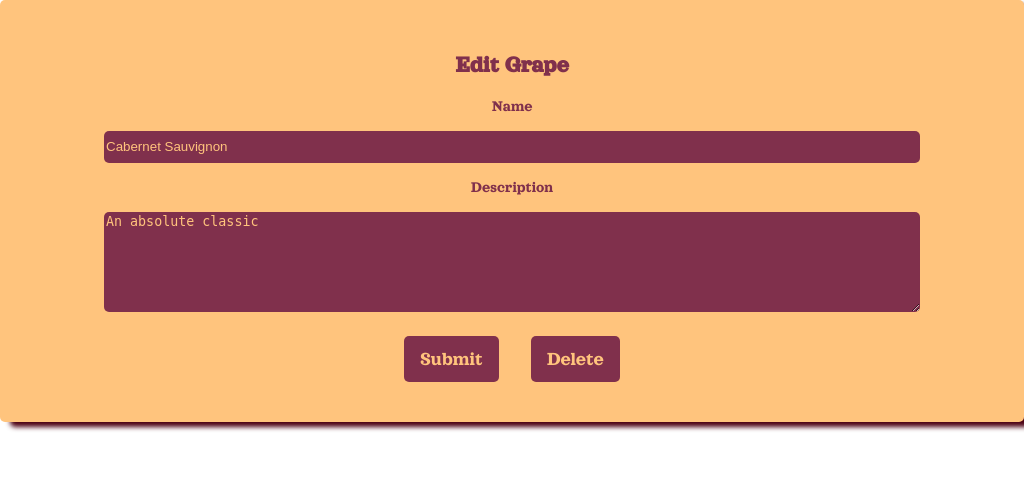
<EditGrape /> › submits data on button click
Clear the field showing "Cabernet Sauvignon": [512, 147] box x1=104 y1=131 x2=920 y2=163
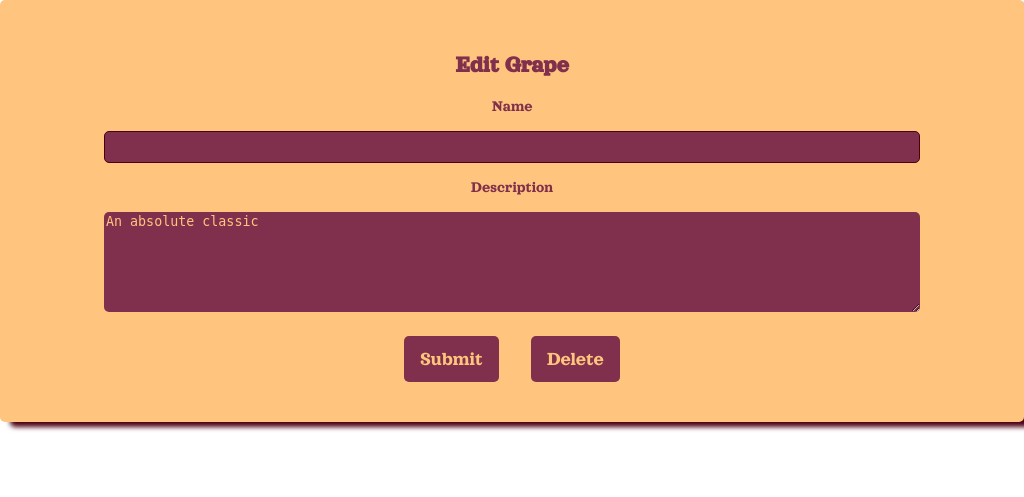
Clear the text box labelled "Description": [512, 262] box x1=104 y1=212 x2=920 y2=312
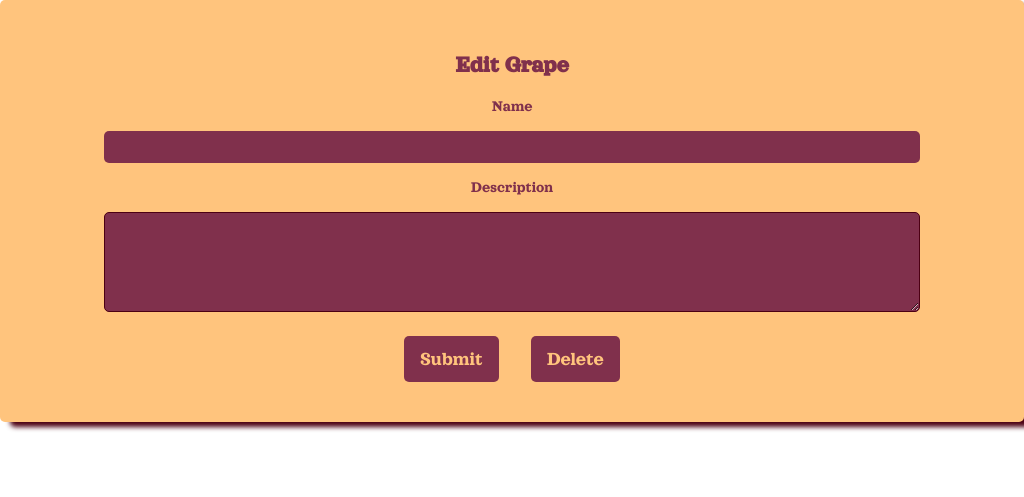
In the field showing "Cabernet Sauvignon": [512, 147] box x1=104 y1=131 x2=920 y2=163, type "Beaujolais"
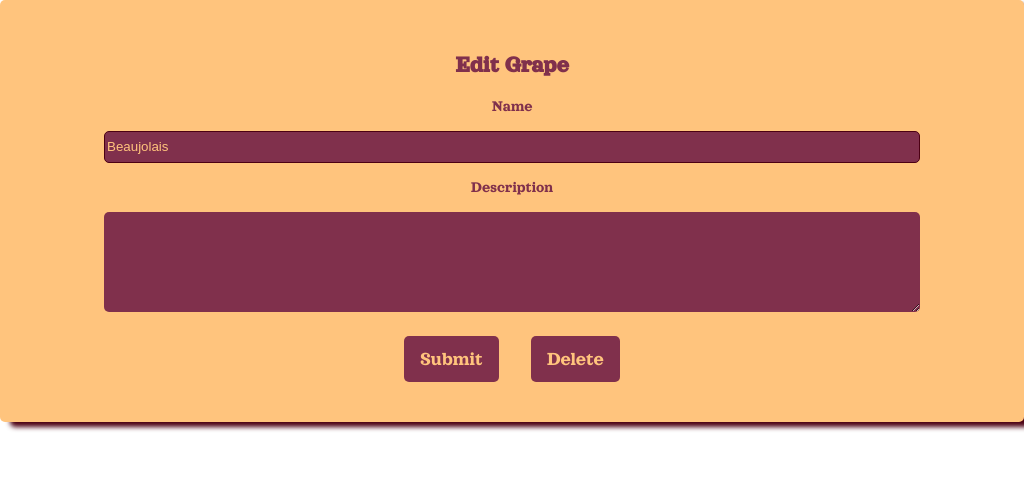
In the text box labelled "Description": [512, 262] box x1=104 y1=212 x2=920 y2=312, type "Always good"
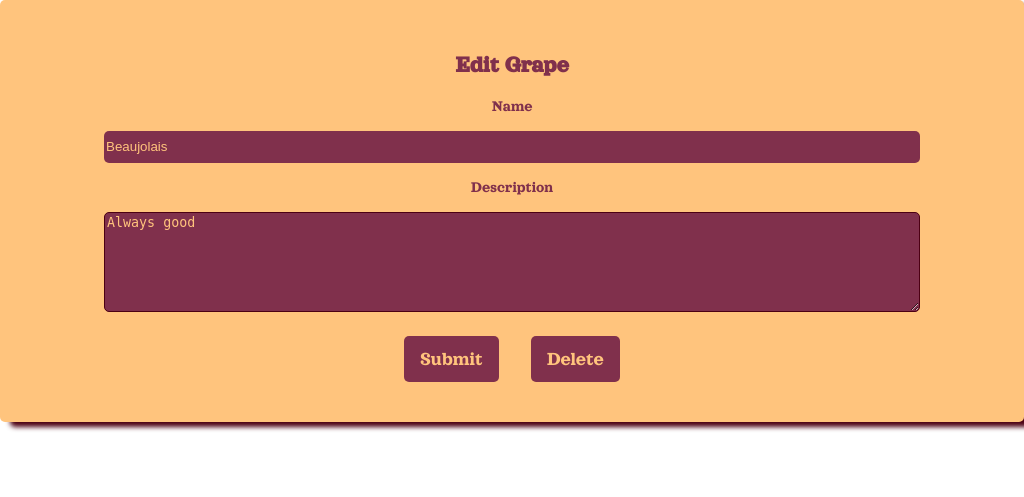
Click the button "Submit": [451, 359] box x1=404 y1=336 x2=499 y2=382
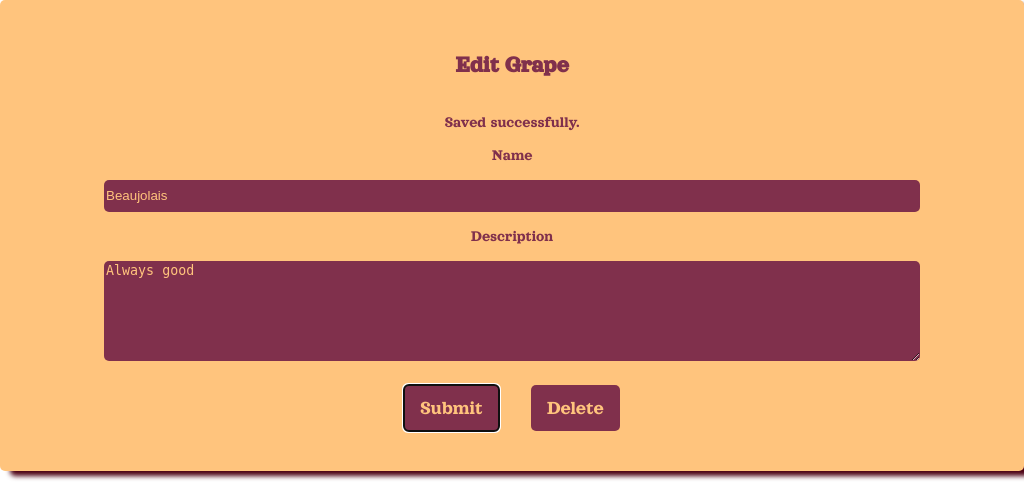
Check: the text "Saved successfully." is shown, box x1=445 y1=114 x2=579 y2=131
